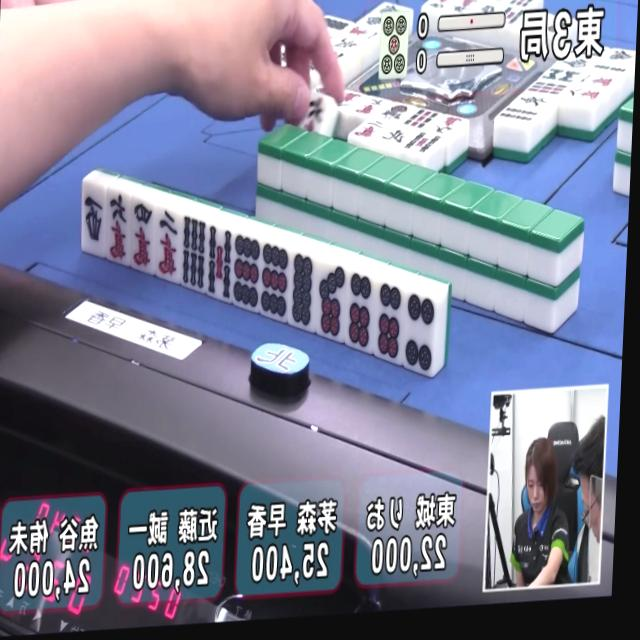m2: (151, 207, 183, 283)
m4: (125, 198, 157, 274)
m6: (101, 190, 131, 267)
s5: (203, 224, 236, 303)
s6: (175, 216, 209, 295)
t4: (400, 284, 441, 379)
t5: (377, 8, 411, 80)
t6: (338, 267, 379, 356), (368, 278, 408, 368)
t7: (311, 260, 350, 344)
t8: (286, 252, 320, 332)
t9: (255, 239, 294, 322), (228, 233, 263, 312)
west: (76, 184, 106, 255)
